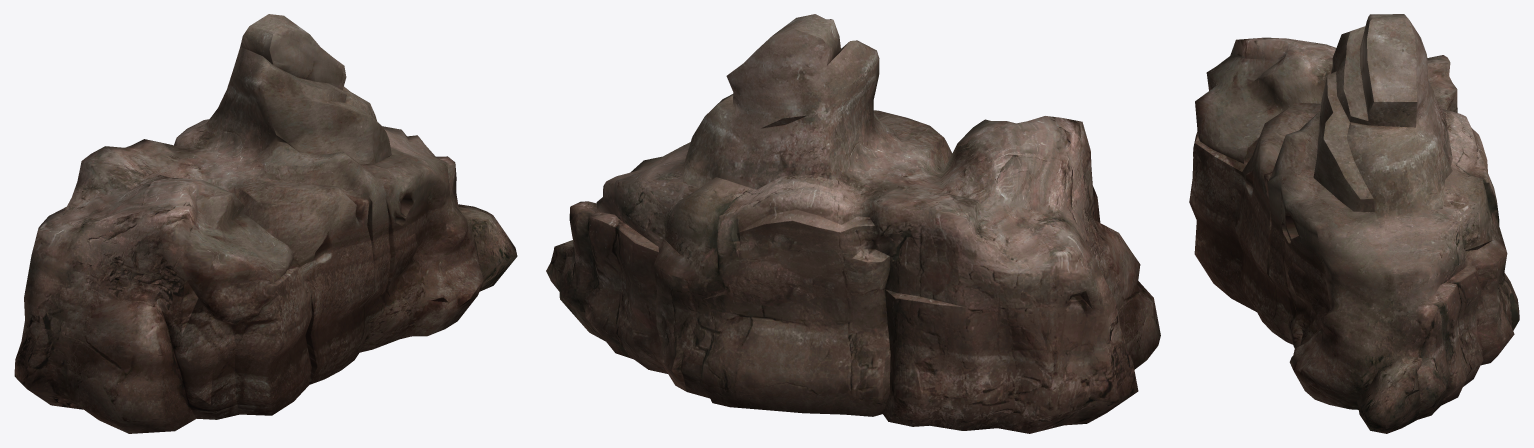
File: Rock 03.FBX
3 views of the same model, side by side, from view 1: azimuth 30°, elevation 25°; view 2: azimuth 150°, elevation 25°; view 3: azimuth 270°, elevation 25° (orthographic). The views are drawn at different scales.
Parts seen in each view (by area): view 1: Rock 03; view 2: Rock 03; view 3: Rock 03.
Boxes of the visible parts, box(x1,y1,x2,y2) form: Rock 03: box(14, 14, 517, 433); Rock 03: box(546, 14, 1160, 433); Rock 03: box(1189, 14, 1519, 433).
Size of the model in its own units: 43.04 by 24.76 by 23.91.
